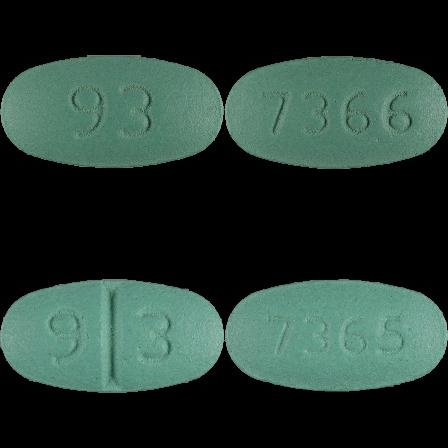61786-752: (0, 0, 224, 224)
